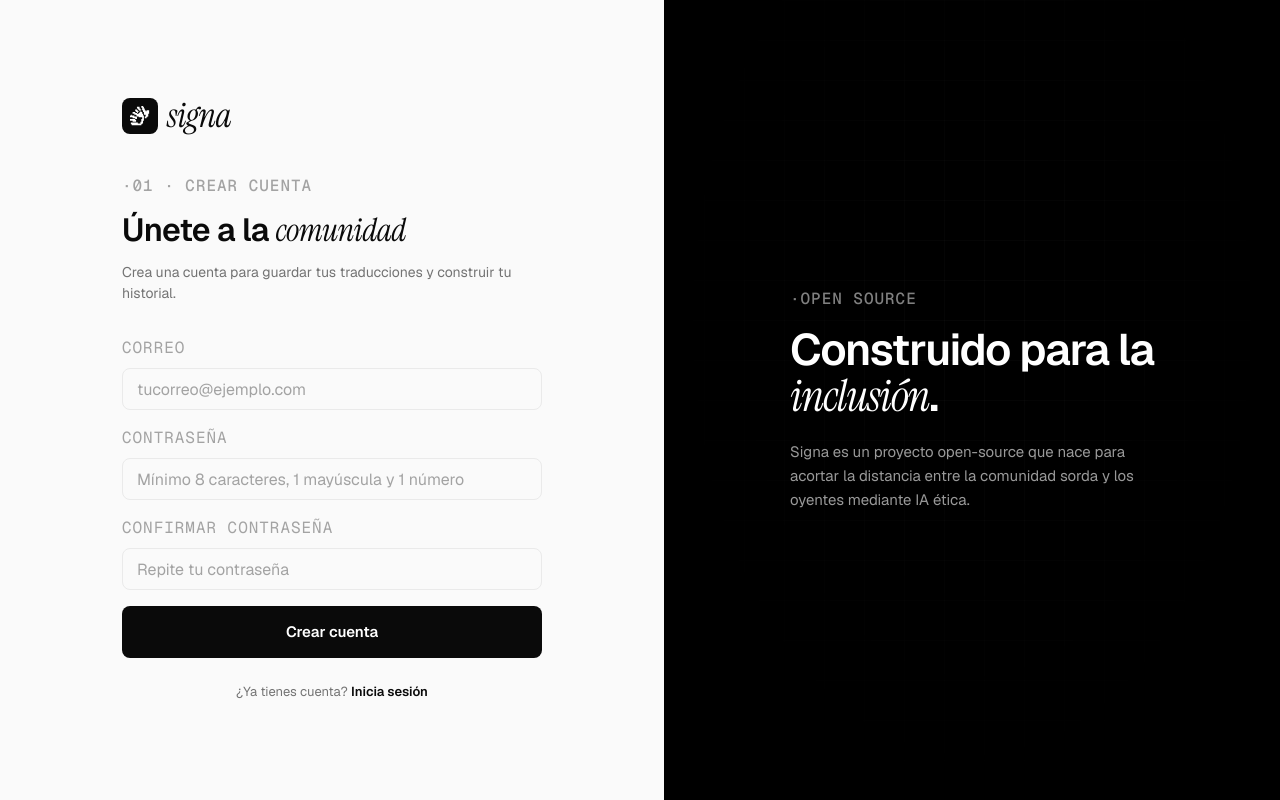
Test: RegisterPage › shows server error when email is taken
The width and height of the screenshot is (1280, 800).
Type "taken@signa.dev" into the field labelled "Correo". click: (332, 389)
box: [122,368,542,410]
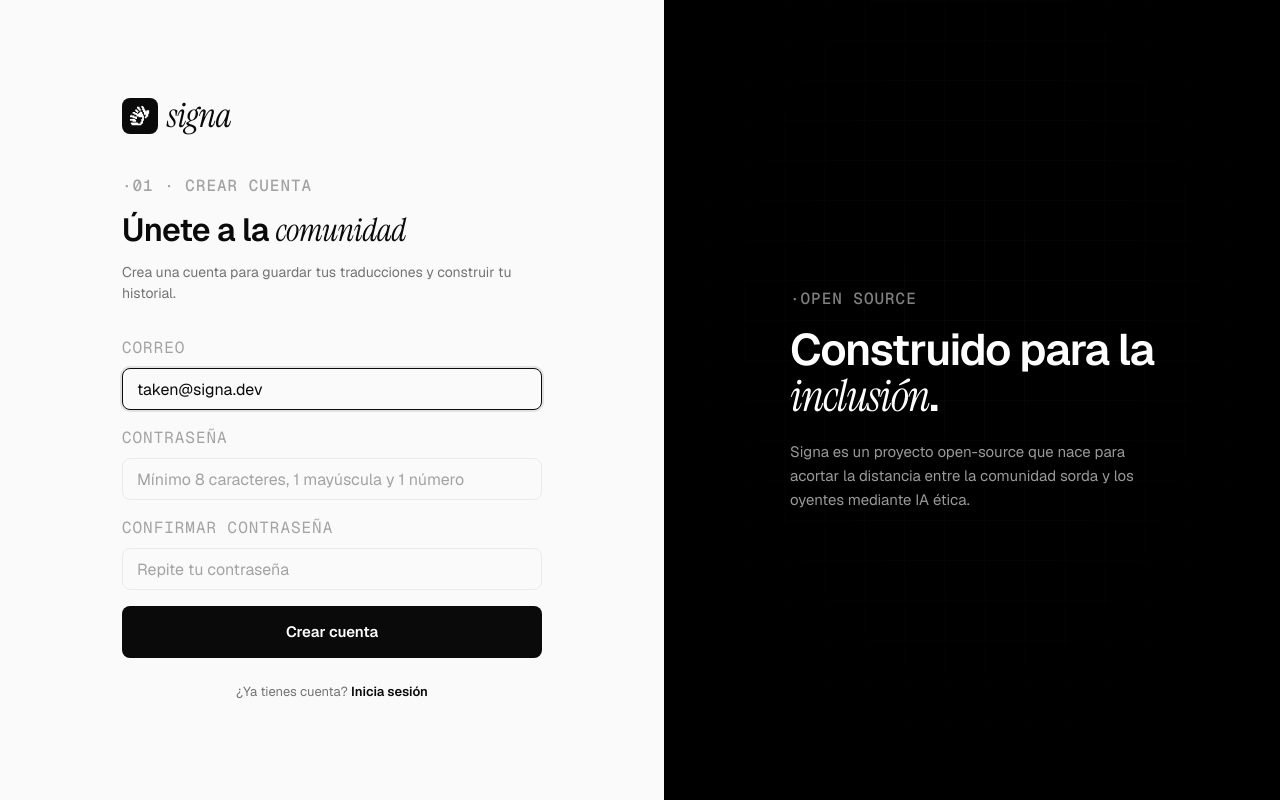
Type "Strong1!" into the password field labelled "Contraseña". click: (332, 479)
box: [122,458,542,500]
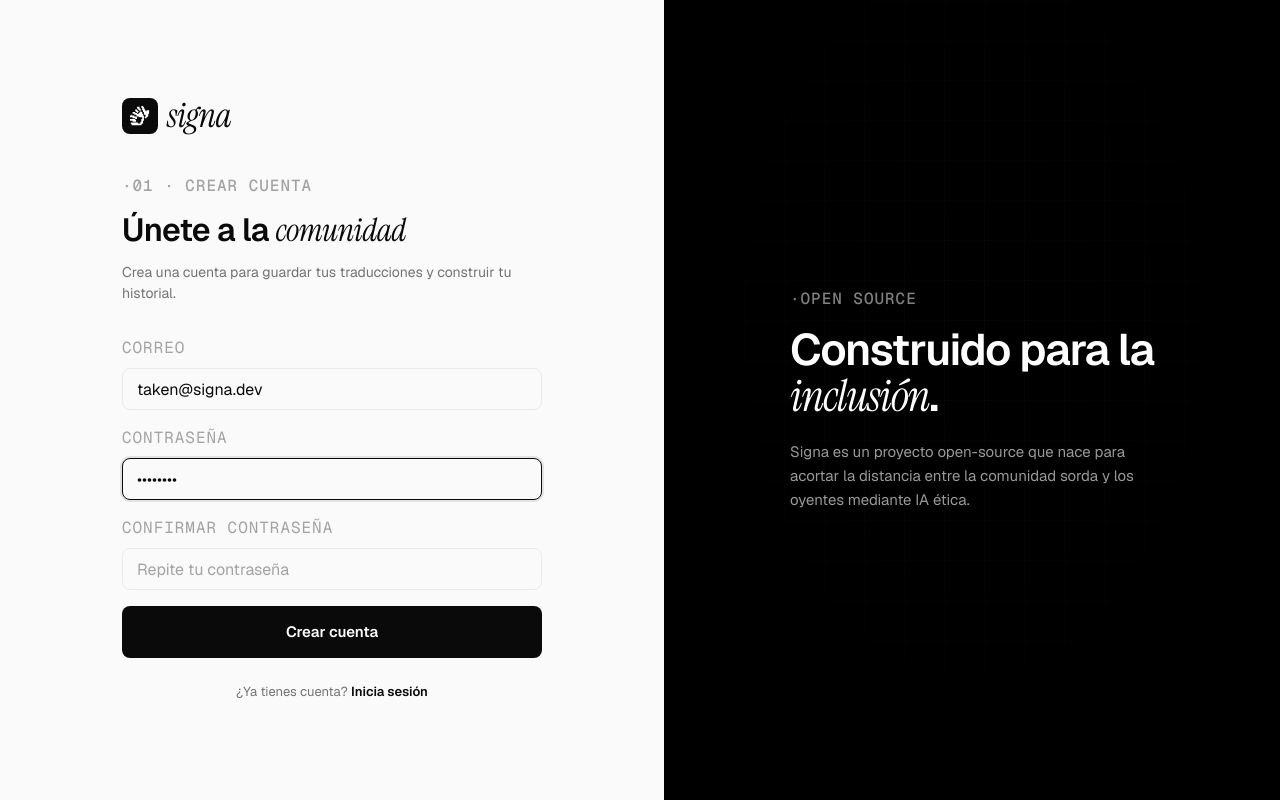
Type "Strong1!" into the password field labelled "Confirmar contraseña". click: (332, 569)
box: [122,548,542,590]
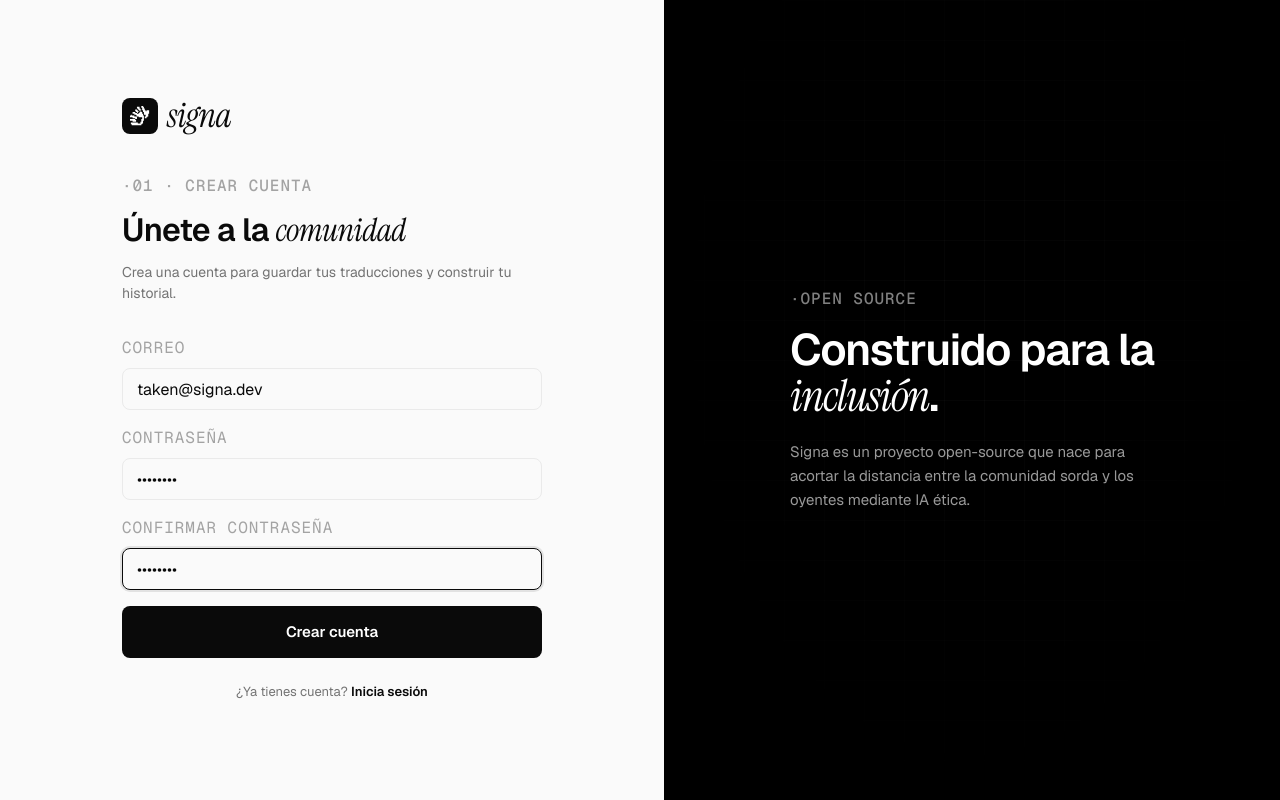
Click the button "Crear cuenta". click: (332, 632)
box: [122,606,542,658]
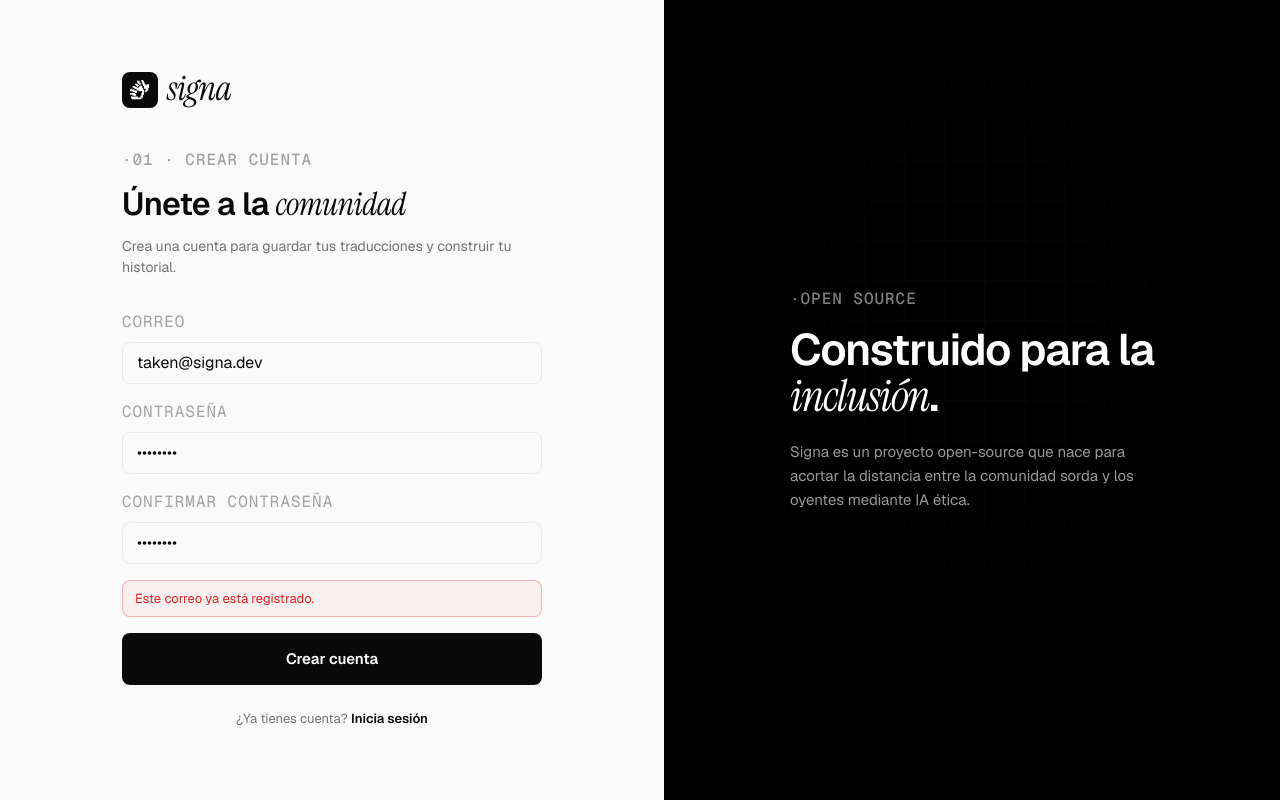
Check: the text "Este correo ya está registrado." is shown, box [122,580,542,617]
